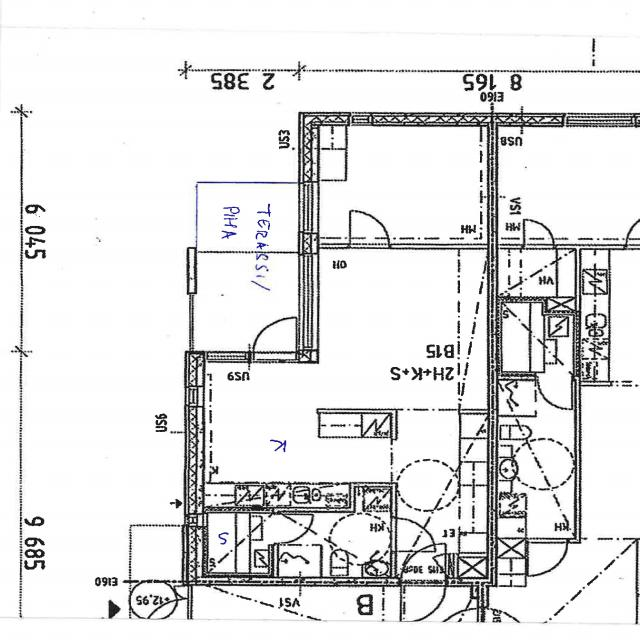door: (401, 540, 446, 586), (401, 577, 446, 623), (254, 314, 296, 363), (350, 209, 390, 249), (391, 517, 438, 551), (273, 514, 315, 544)
